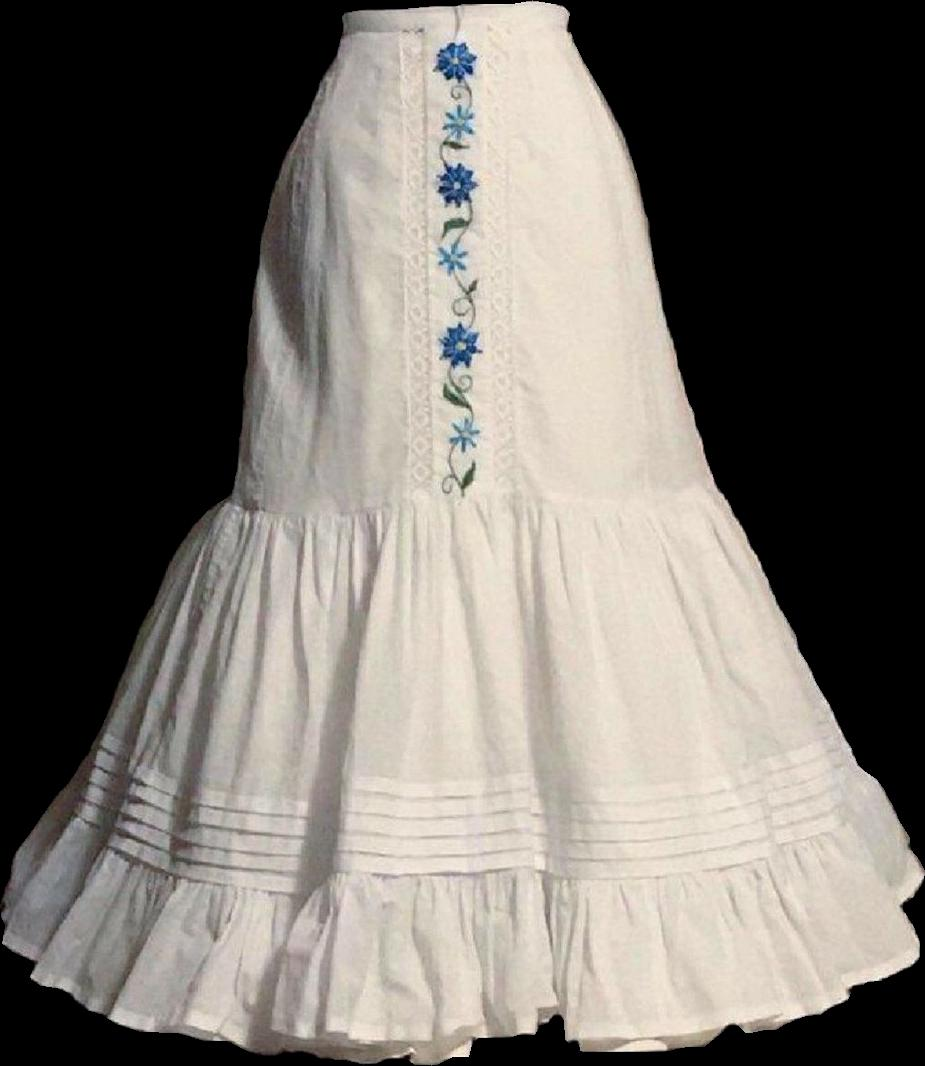Hemline: (0, 872, 924, 1064)
Waistline: (221, 473, 722, 524), (340, 25, 571, 47), (342, 0, 569, 22)
